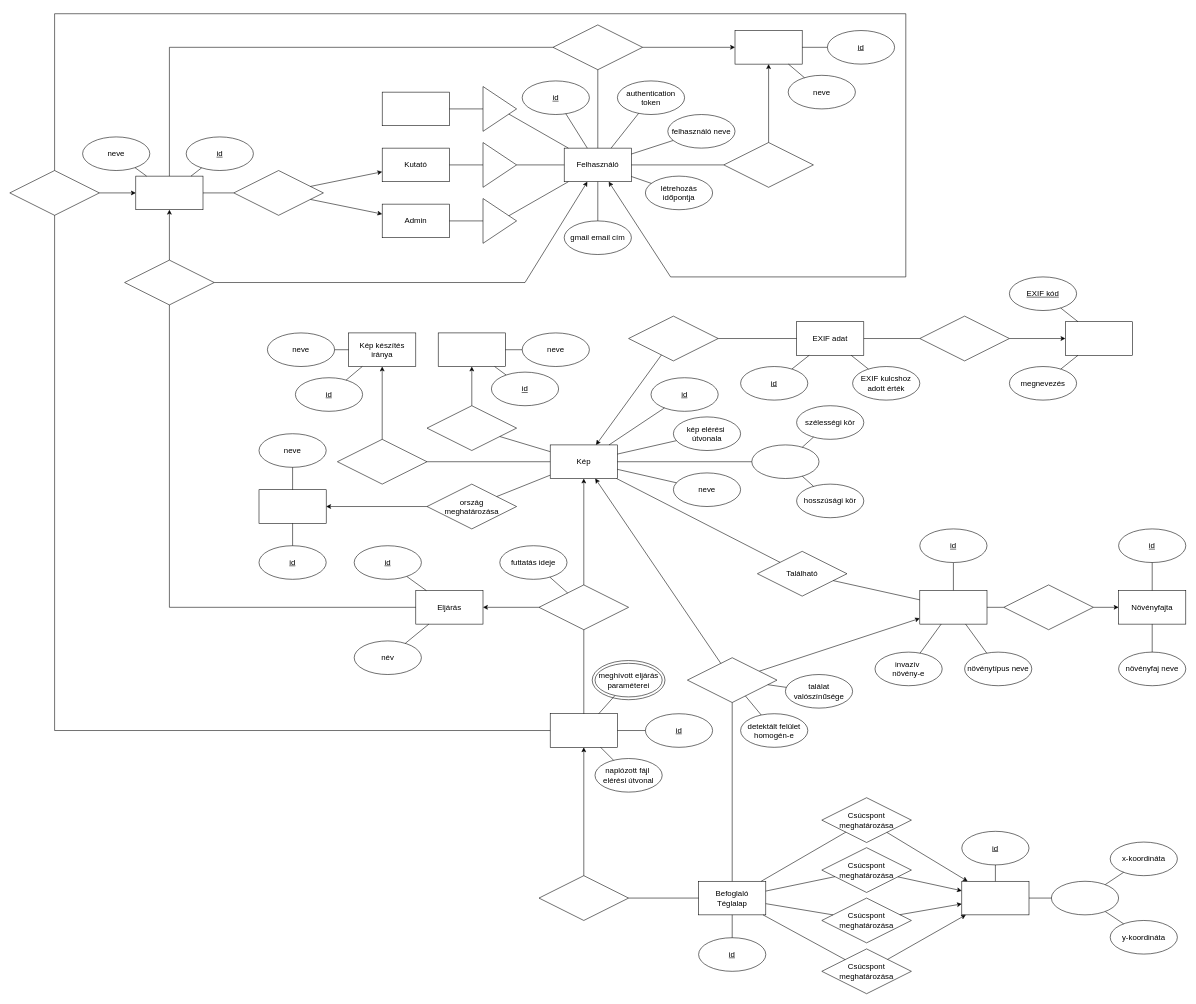
The diagram is 1196 pixels wide and 1004 high, and some of its shapes have lost their labels. Here are the shapes that lost their labels. From the top down, the centre of each, then its label:
At point (597, 47): "Csatlakozás csoporthoz".
At point (768, 47): "Státusz".
At point (415, 109): "Hallgató".
At point (768, 164): "Felhasználó státusza".
At point (54, 192): "Eljárás meghívása".
At point (169, 193): "Kutatócsoport".
At point (278, 192): "Kutatócsoport létrehozása".
At point (169, 282): "Eljárás létrehozása".
At point (471, 349): "Kép készítés éve".
At point (673, 338): "EXIF adatok tartalmazása".
At point (964, 338): "EXIF kulcs Tartalmazás".
At point (1099, 338): "EXIF kulcs".
At point (471, 428): "év meghatározása".
At point (382, 461): "irány meghatározása".
At point (785, 461): "GPS koordináták".
At point (292, 506): "Kép készítésének országa".
At point (583, 607): "Eljárás futtatása".
At point (953, 607): "Növénytípus".
At point (1048, 607): "Növényfajta hozzárendelés".
At point (732, 680): "Növénytípus detektálása".
At point (583, 730): "Meghívott eljárások naplója".
At point (583, 897): "Befoglaló téglalap generálása".
At point (995, 898): "Pixel Pont".
At point (1085, 898): "Pixel pont koordinátái".
